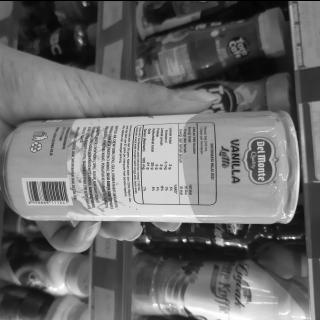alumunium_can: (1, 88, 308, 224)
